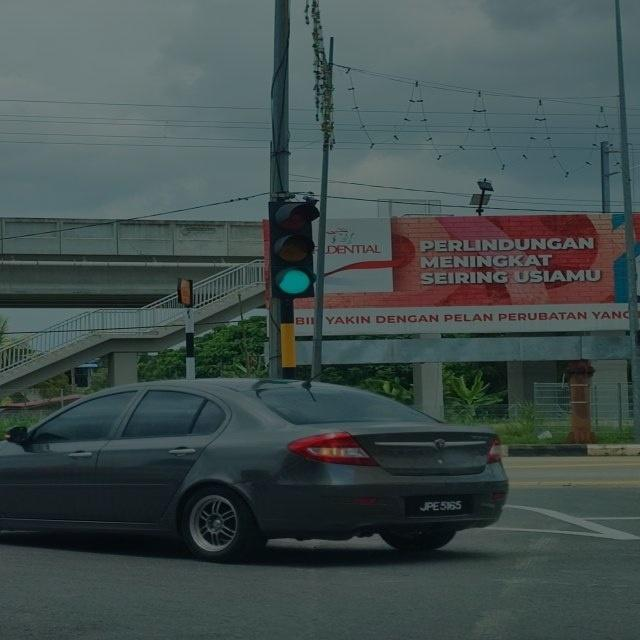Green: (272, 200, 321, 296)
